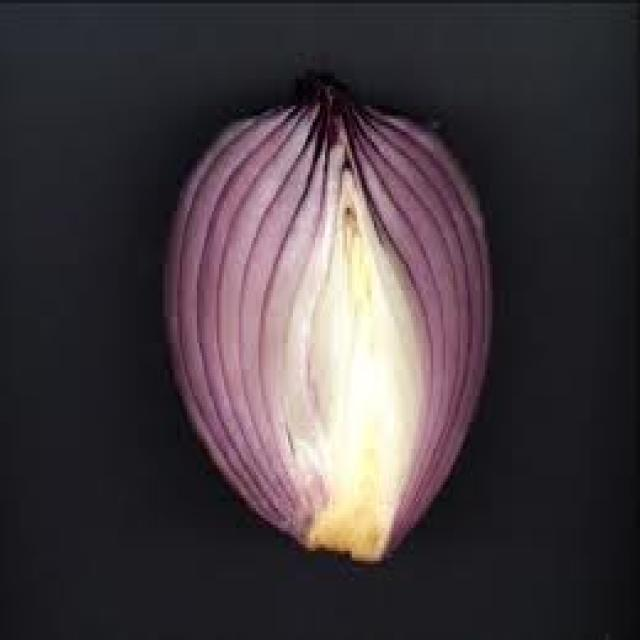onion: (158, 66, 514, 574)
